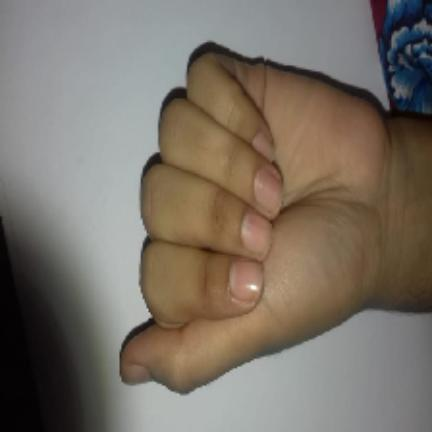Nail: (229, 261, 264, 300), (241, 214, 271, 251), (254, 169, 281, 209), (251, 131, 277, 163), (126, 364, 150, 385)
